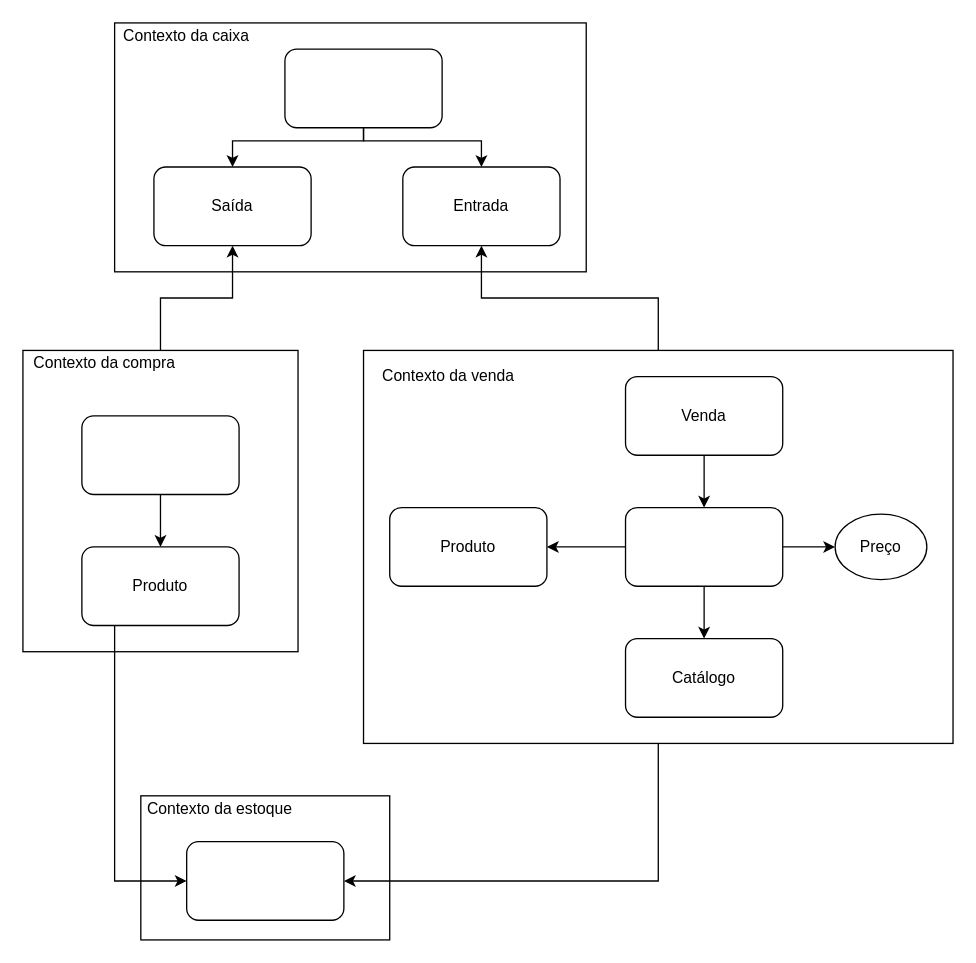
Some shapes in this 976 by 963 pixel diagram are drawn without their labels. The shapes that lost their labels are listed below. From the top down, each one's box as (x1, y1, x2, y2) in pixels, then its label:
(284, 48, 442, 128): Transação
(81, 415, 239, 495): Compra
(624, 506, 783, 586): Faturável
(185, 840, 344, 920): Armazém
